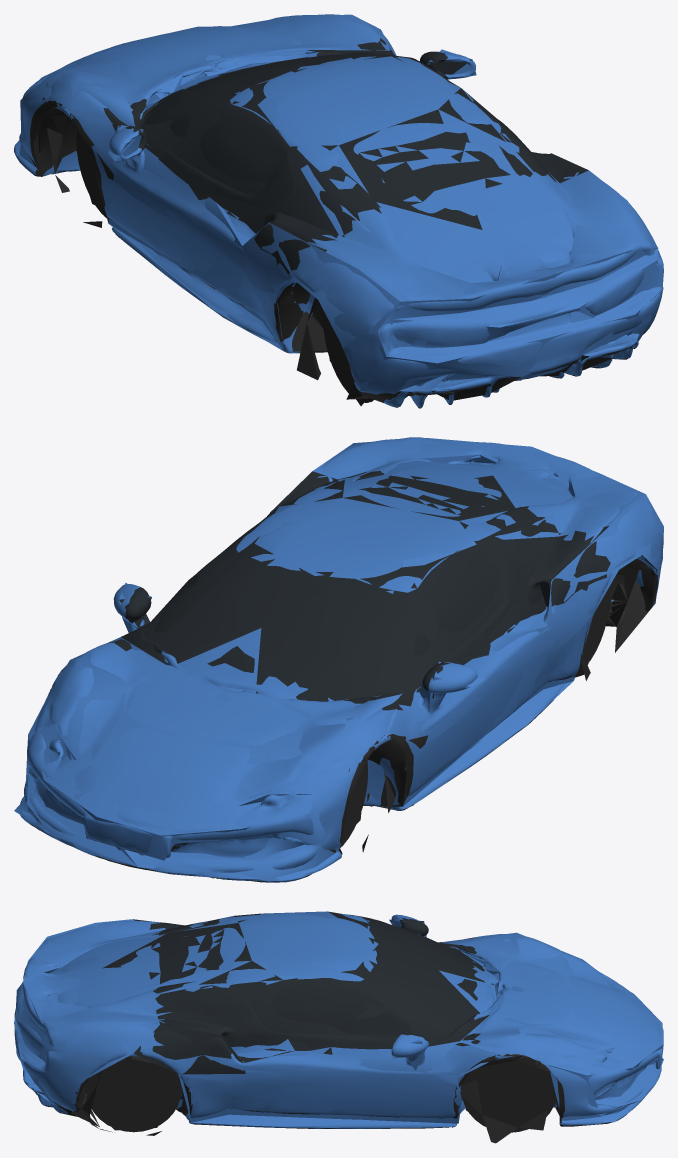
Rendered from ferrari-296-gts.glb.
3 renders of one model, top to bottom at view 1: azimuth 30°, elevation 25°; view 2: azimuth 150°, elevation 25°; view 3: azimuth 270°, elevation 25°, orthographic. The views are drawn at different scales.
Visible parts, largest first — view 1: body, far; view 2: body, far; view 3: body, far.
Part boxes in pixels (left/top/right/bottom): body: left=14, top=14, right=663, bottom=408; far: left=19, top=14, right=663, bottom=405; body: left=20, top=437, right=663, bottom=882; far: left=14, top=438, right=663, bottom=880; body: left=14, top=912, right=663, bottom=1143; far: left=14, top=911, right=663, bottom=1130.
Size of the model in its own units: 2.29 by 1.2 by 4.63.
